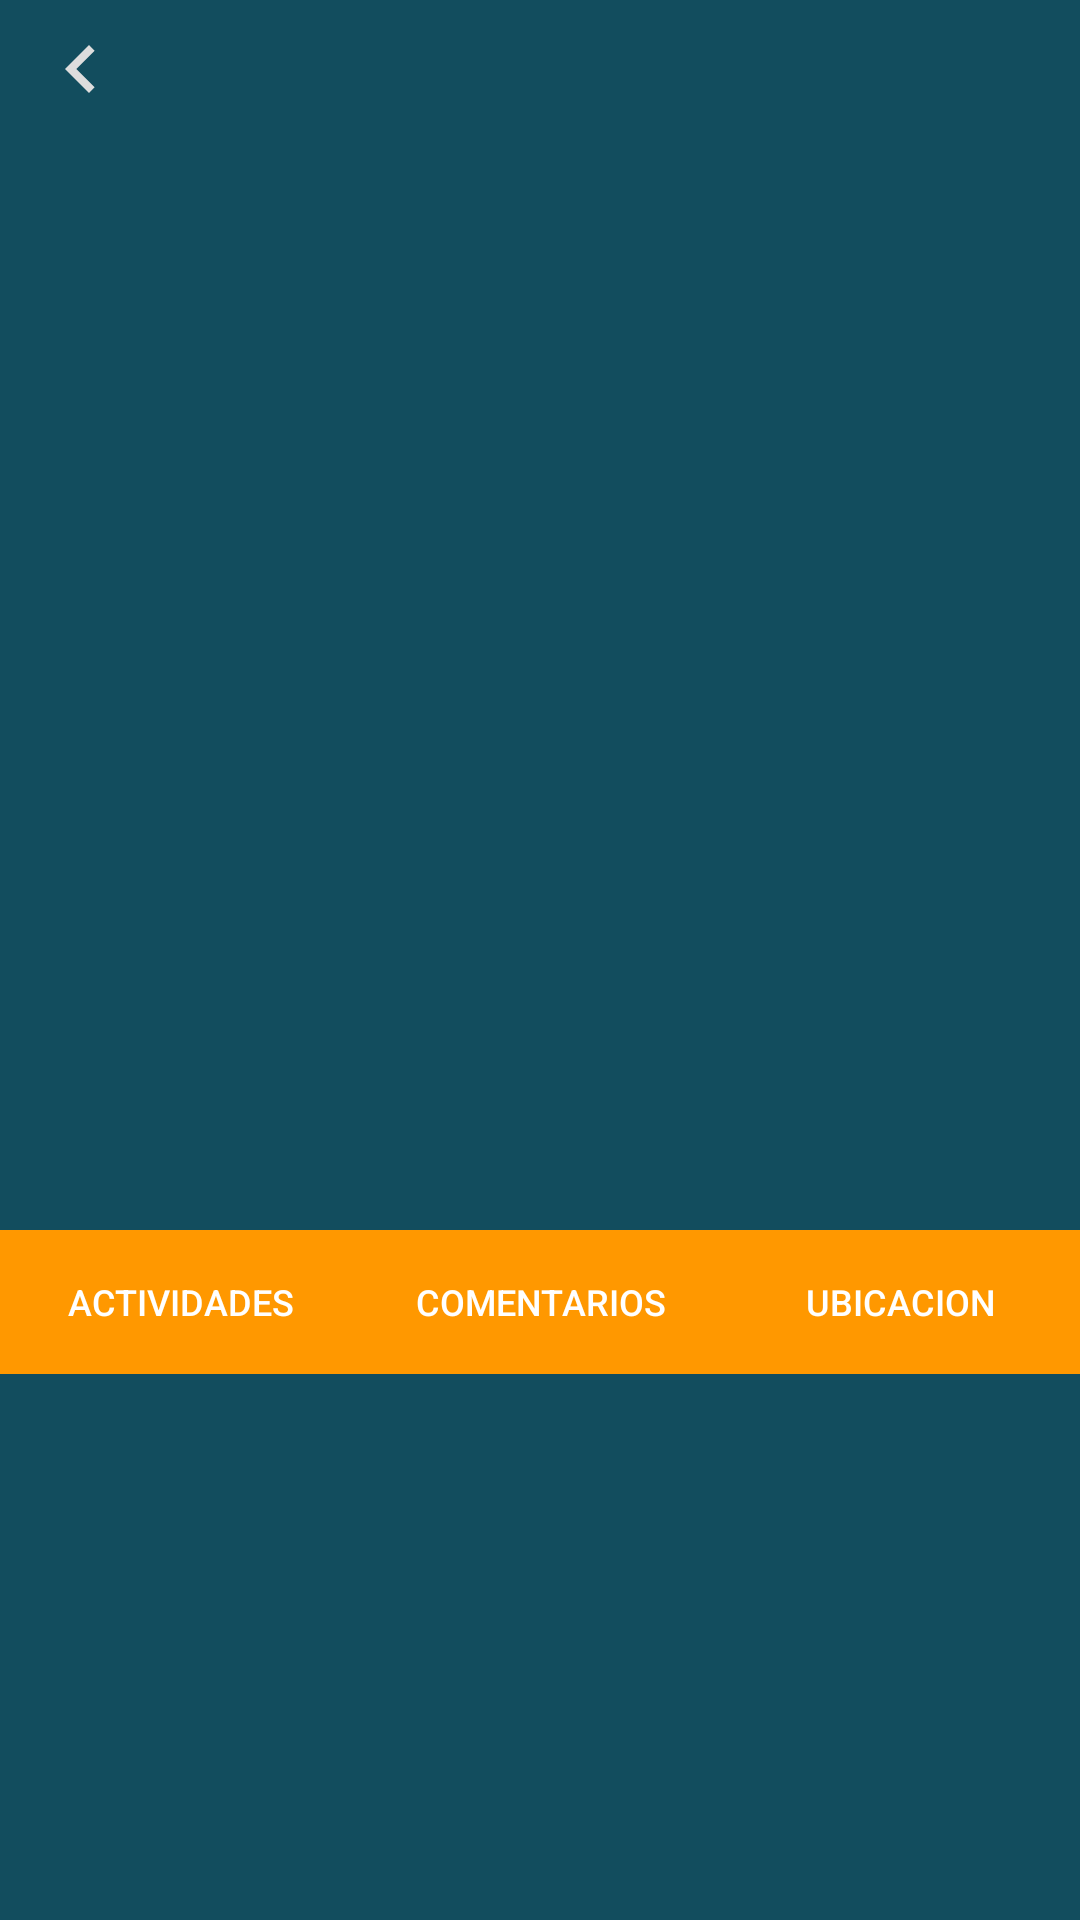

Screen size 1080x1920. Icon name, then its center in pixels as point (x, y):
atras: point (80, 69)
